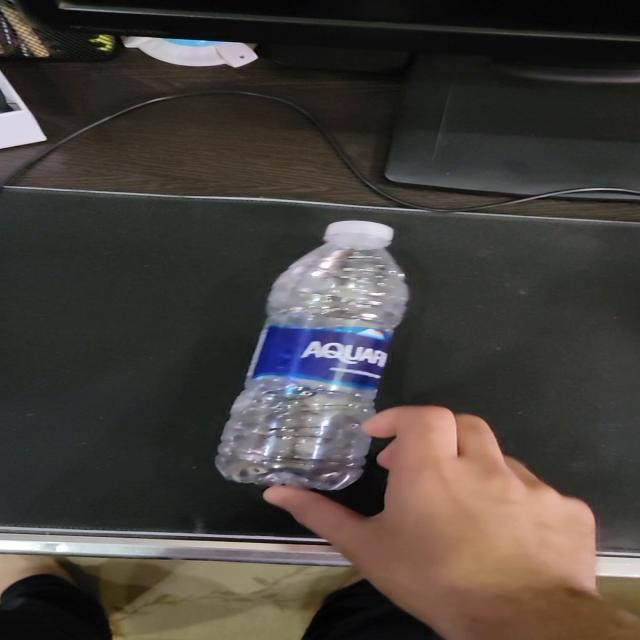Anorganik: (218, 216, 410, 491)
